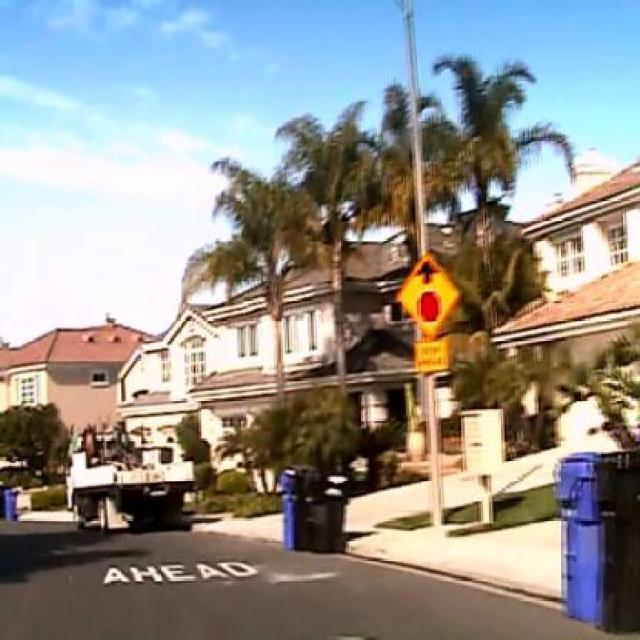stopAhead: (396, 252, 460, 338)
